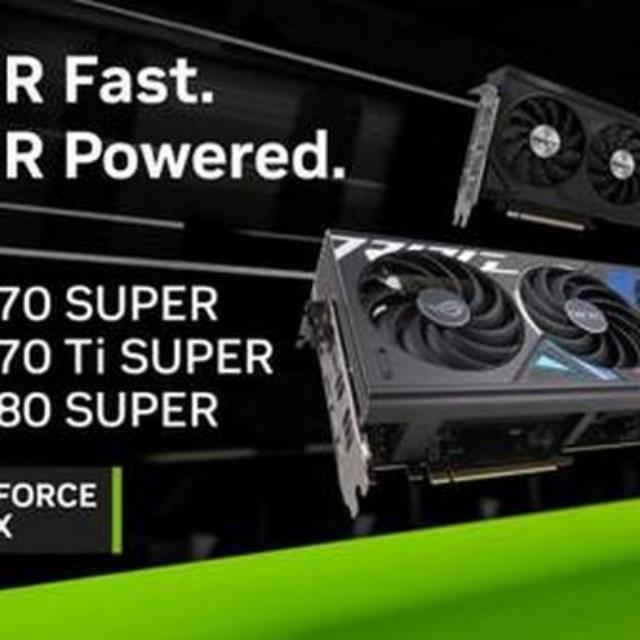GPU: (300, 220, 640, 506), (458, 64, 640, 233)
